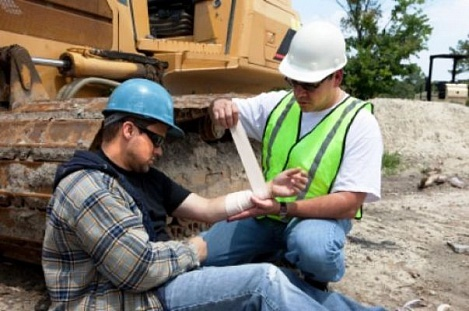blue: (101, 76, 177, 172)
white: (279, 19, 348, 111)
